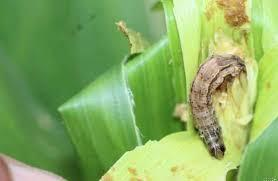fallarmy_worm: (187, 49, 250, 162)
